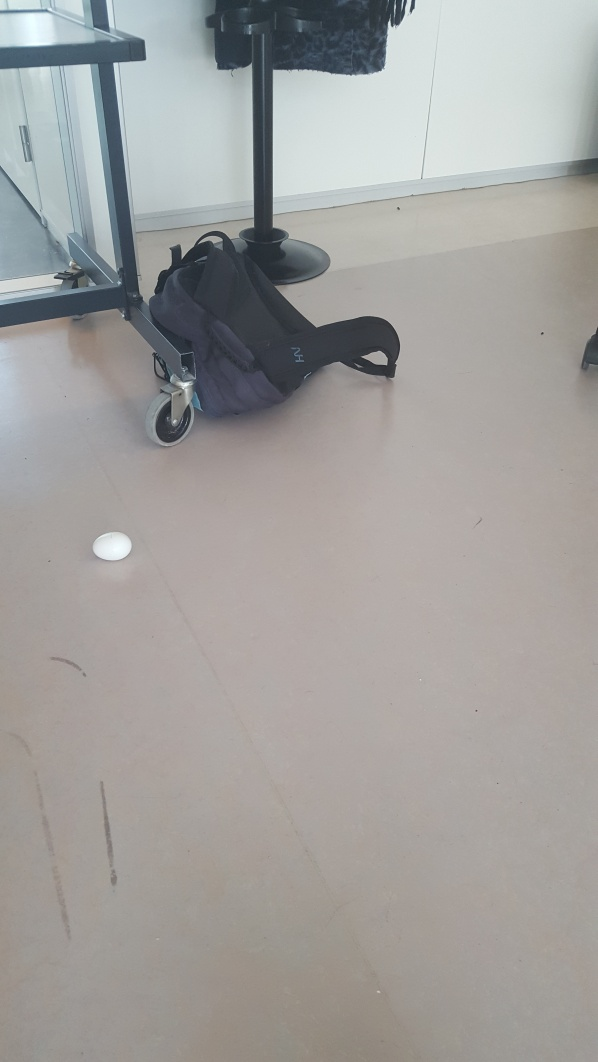egg: (93, 529, 130, 566)
